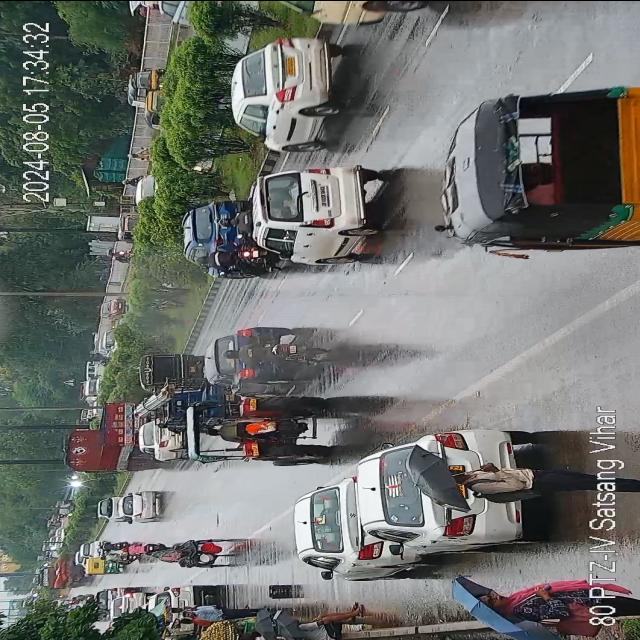2-wheelers: (60, 398, 140, 472), (225, 342, 328, 370), (192, 250, 278, 280), (210, 213, 248, 231), (122, 544, 168, 556), (143, 420, 184, 432), (102, 554, 136, 564), (97, 540, 127, 548)
auto: (442, 82, 640, 256), (152, 534, 226, 573), (142, 350, 204, 388), (136, 63, 172, 123), (85, 557, 119, 575)
car: (360, 424, 537, 556), (251, 160, 377, 265), (230, 30, 340, 150), (292, 483, 397, 577), (178, 188, 262, 274), (199, 363, 279, 398), (149, 580, 201, 632), (96, 584, 142, 634), (138, 417, 182, 458), (120, 485, 162, 523), (98, 494, 120, 522), (79, 542, 103, 557)
pedestrian: (442, 457, 582, 492), (482, 572, 573, 624), (294, 604, 366, 640), (178, 601, 258, 625), (170, 602, 205, 614)
truck: (184, 392, 330, 462), (261, 0, 445, 30), (38, 558, 82, 588)
